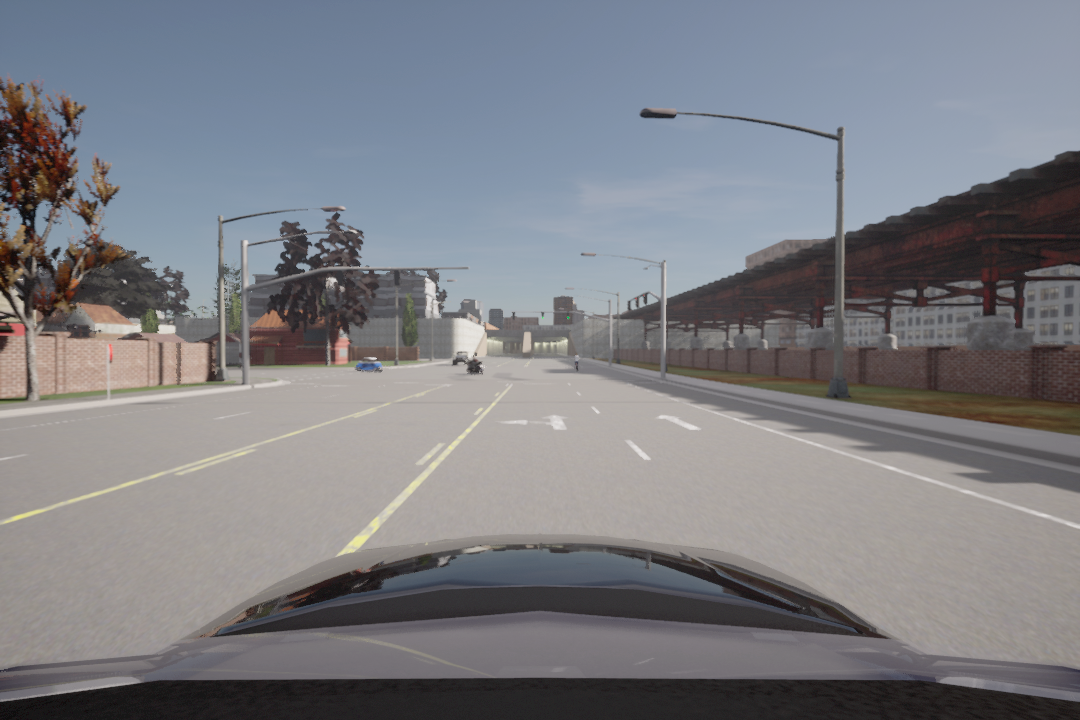RoadSign_forward: (649, 408, 708, 437)
RoadSign_forward_left: (497, 409, 576, 435)
